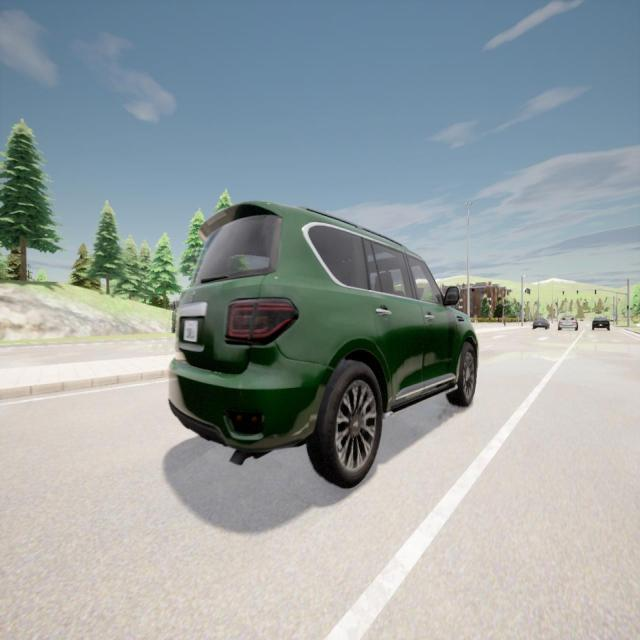Vehicle: (169, 201, 477, 487), (558, 315, 578, 330), (592, 317, 610, 330), (532, 318, 550, 329)
traffic_light: (627, 306, 629, 310), (563, 291, 564, 296), (577, 291, 578, 295), (595, 290, 596, 294), (525, 290, 526, 294), (529, 290, 530, 294), (528, 289, 528, 294)
